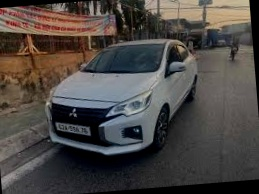Bien-so: (62, 122, 97, 141)
